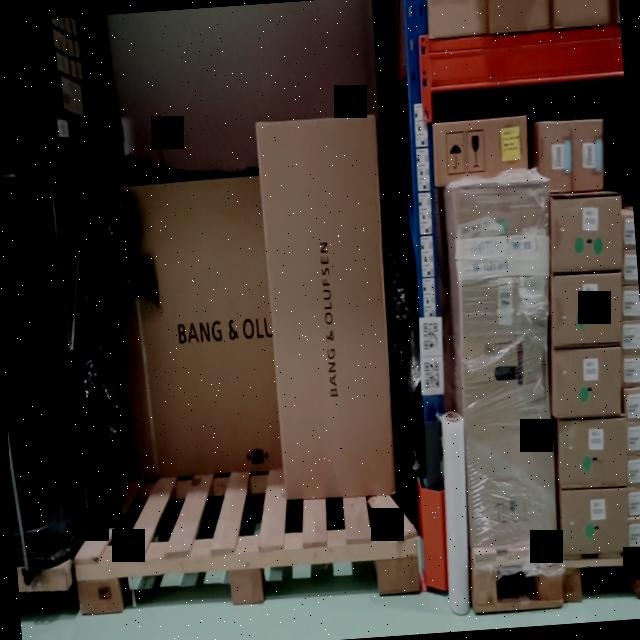box: (258, 114, 396, 503), (453, 184, 557, 548), (550, 188, 622, 274), (432, 118, 528, 179), (550, 270, 624, 347), (559, 417, 628, 489), (553, 351, 627, 418), (560, 486, 628, 556), (573, 116, 603, 196)
